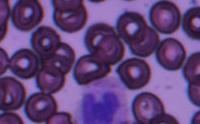N: (78, 76, 129, 123)
